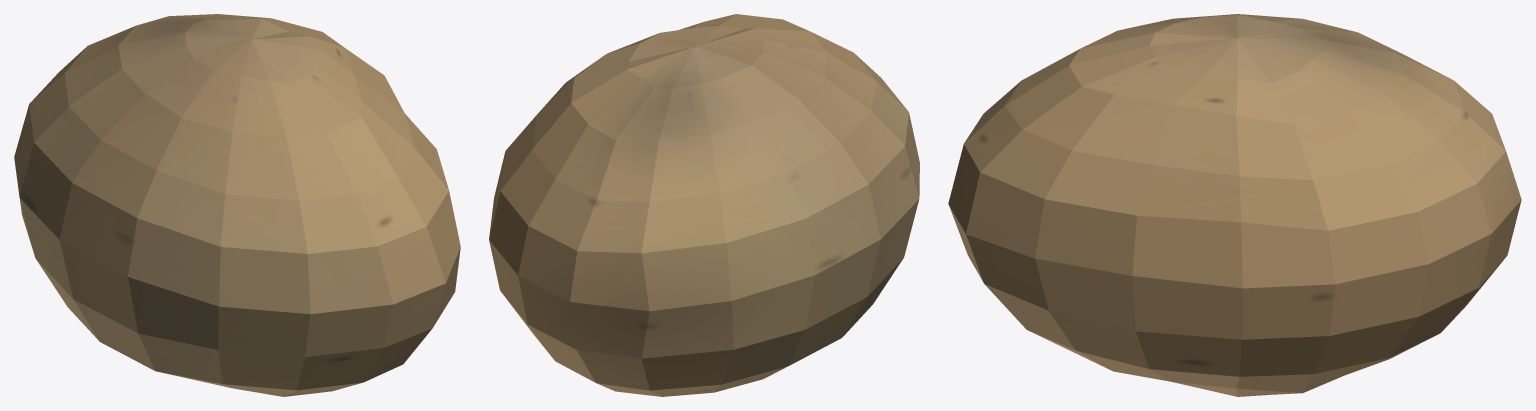
The model's file is Potato.fbx.
3 renders of one model, left to right at view 1: azimuth 30°, elevation 25°; view 2: azimuth 150°, elevation 25°; view 3: azimuth 270°, elevation 25°, orthographic. The views are drawn at different scales.
Visible parts, largest first — view 1: Potato; view 2: Potato; view 3: Potato.
Part boxes in pixels (x1,y1,x2,y2): Potato: (14,14,460,396); Potato: (489,14,919,396); Potato: (948,14,1521,396).
Bounding box in the file's own units: 193 × 165 × 259.
1 material, 1 textured.
